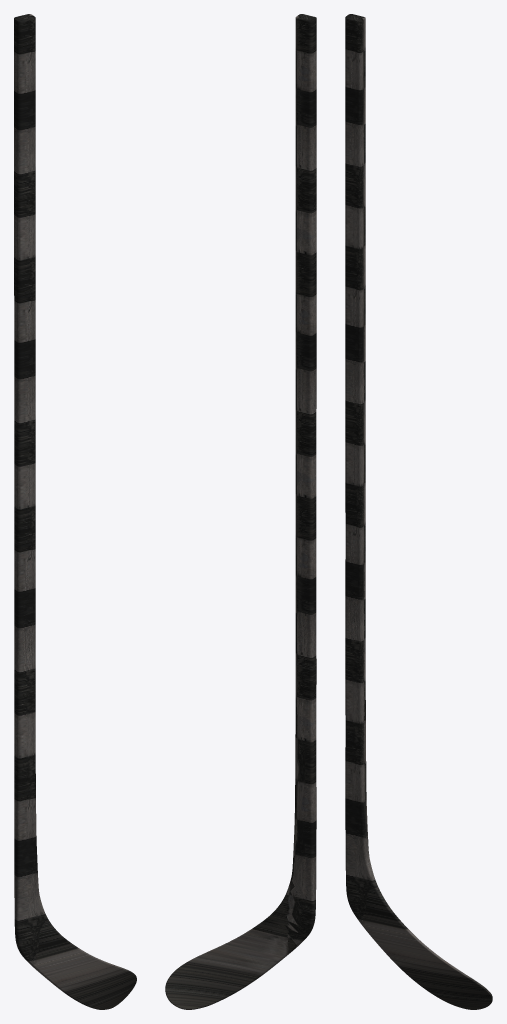
3 views of the same model, side by side, from view 1: azimuth 30°, elevation 25°; view 2: azimuth 150°, elevation 25°; view 3: azimuth 330°, elevation 25° (orthographic). The views are drawn at different scales.
Parts seen in each view (by area): view 1: geometry_0; view 2: geometry_0; view 3: geometry_0.
Boxes of the visible parts, x1=… form: geometry_0: x1=14, y1=14, x2=136, y2=1009; geometry_0: x1=165, y1=14, x2=316, y2=1009; geometry_0: x1=345, y1=14, x2=492, y2=1009.
Size of the model in its own units: 229 by 1650 by 65.76.
1 material, 1 textured.
